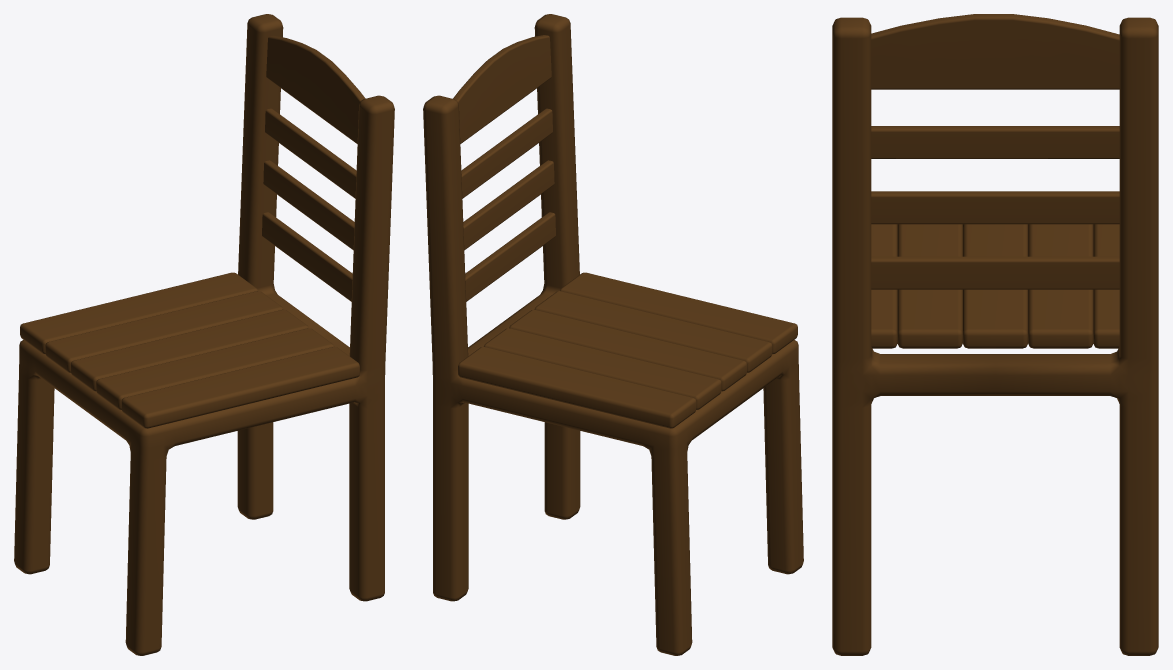
The model's file is chair_02_wooden_dark.fbx.
3 renders of one model, left to right at view 1: azimuth 30°, elevation 25°; view 2: azimuth 150°, elevation 25°; view 3: azimuth 270°, elevation 25°, orthographic. The views are drawn at different scales.
Parts seen in each view (by area): view 1: chair_02_wooden_dark; view 2: chair_02_wooden_dark; view 3: chair_02_wooden_dark.
Part boxes in pixels (box(x1,y1,x2,y2)): chair_02_wooden_dark: box(14, 14, 394, 655); chair_02_wooden_dark: box(423, 14, 803, 655); chair_02_wooden_dark: box(832, 14, 1158, 655).
Size of the model in its own units: 59.37 by 109 by 50.24.
Materials: 1 (1 with a texture image).
